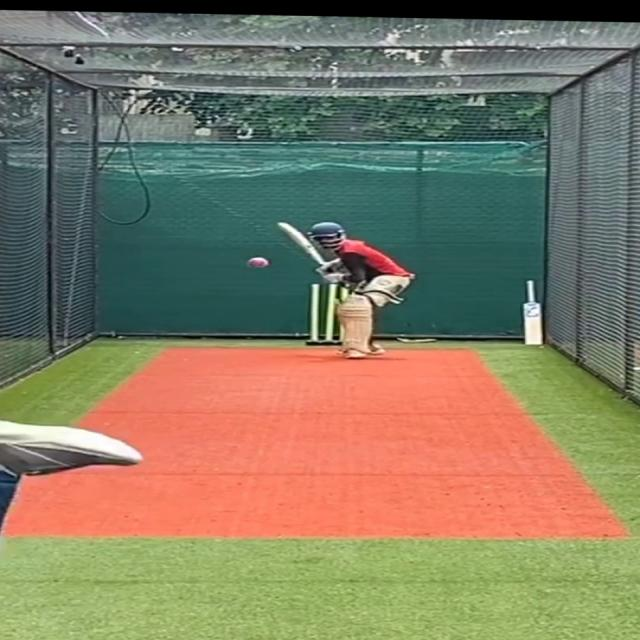ball: (244, 256, 272, 270)
stump: (301, 278, 341, 346)
